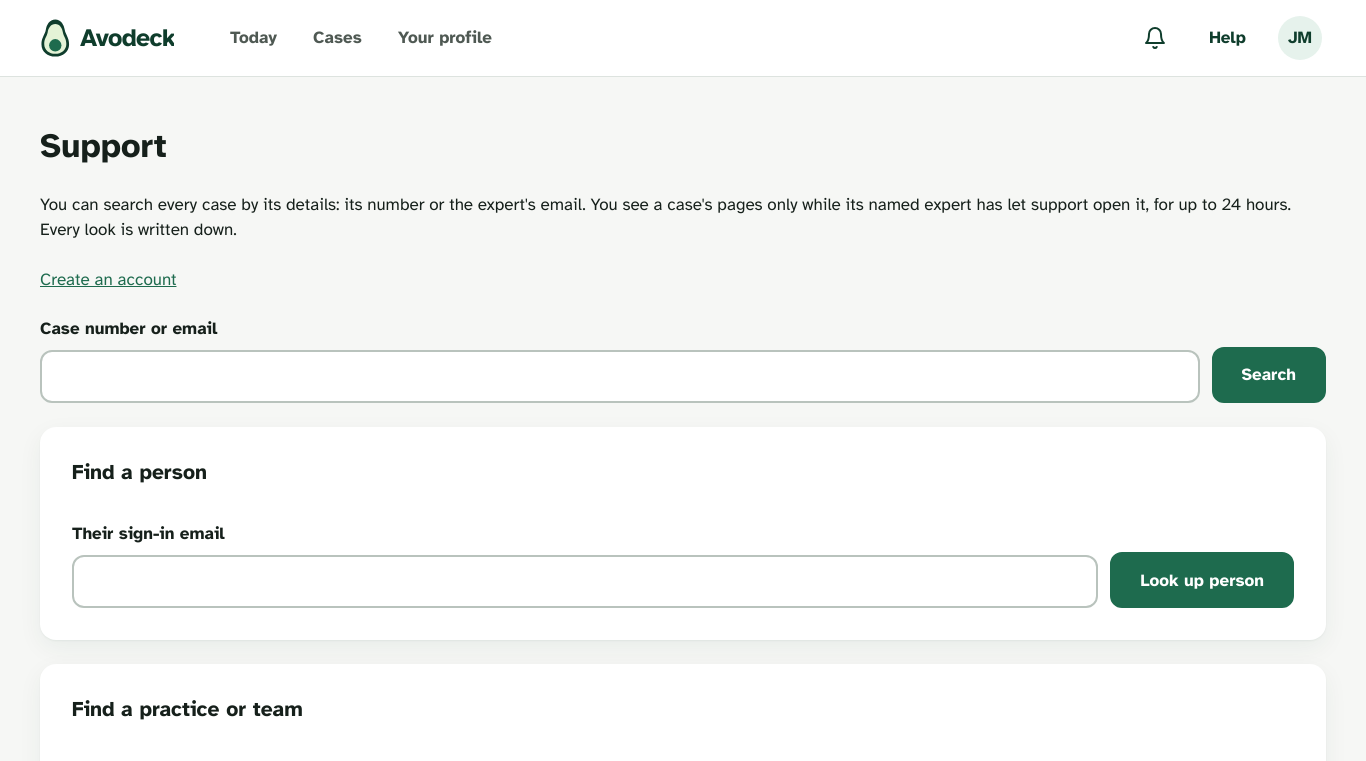
Scenario: staff search by case number and see details, no records
In the field labelled "Case number or email": x=620, y=376 [40, 350, 1200, 403], type "44444444-4444-4444-8444-444444444444"
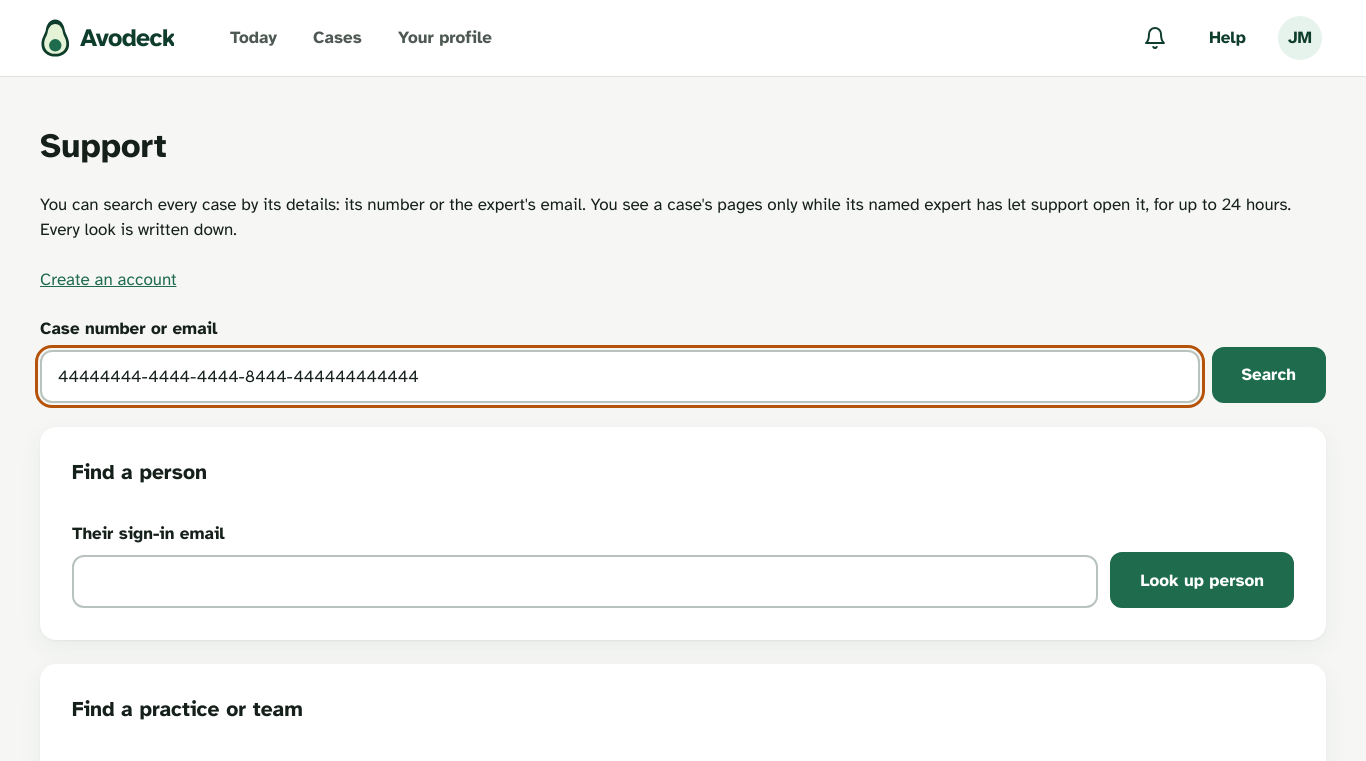
Click the button "Search": x=1269, y=375 [1212, 347, 1326, 403]
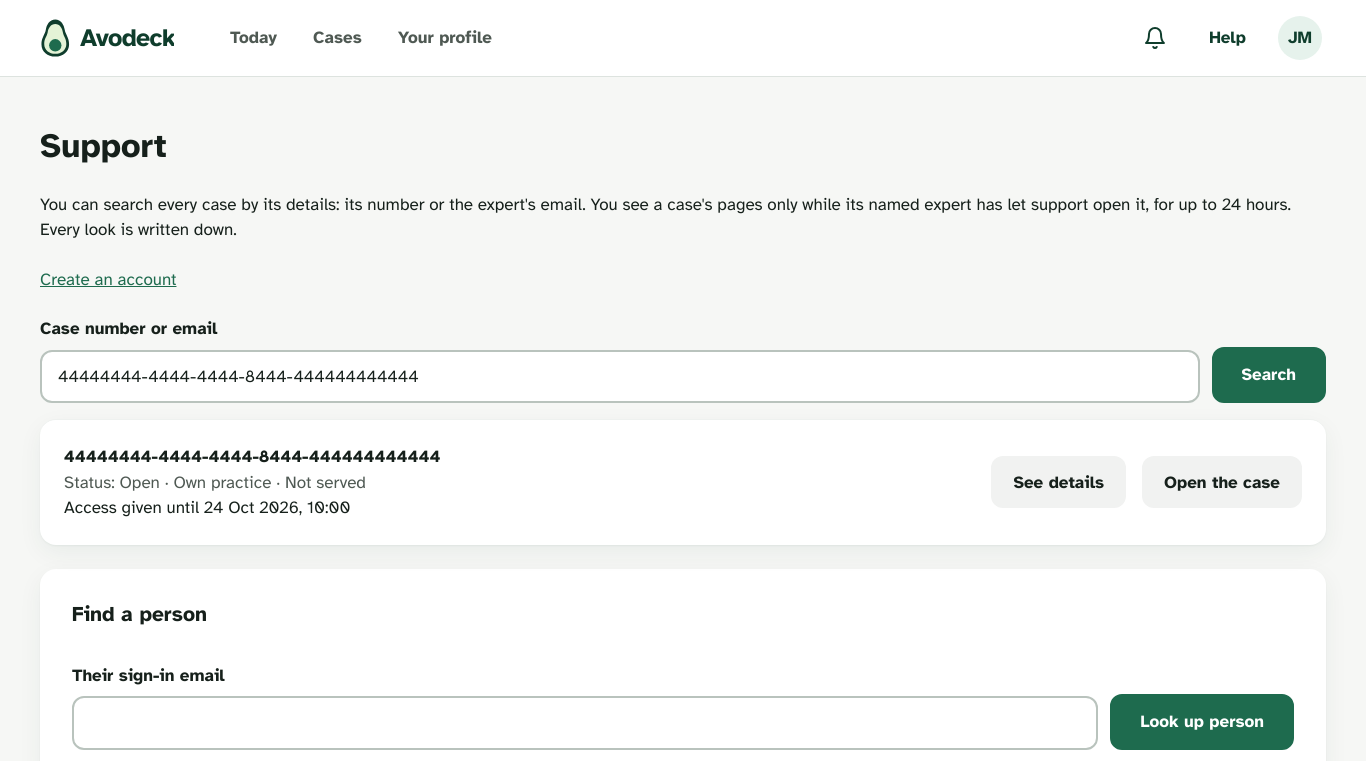
Check: the text "Status: Open · Own practice · Not served" is shown, box [64, 472, 366, 492]
Check: the text "Access given until 24 Oct 2026, 10:00" is shown, box [64, 497, 350, 518]
